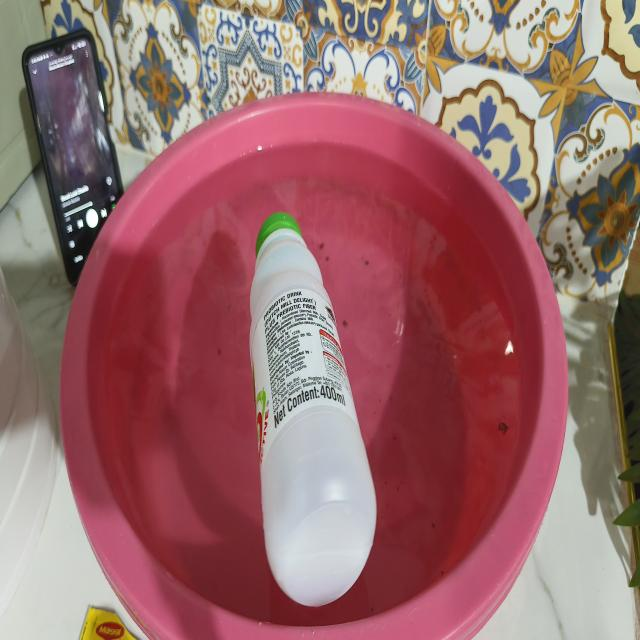Plastic Bottle: (234, 175, 396, 625)
